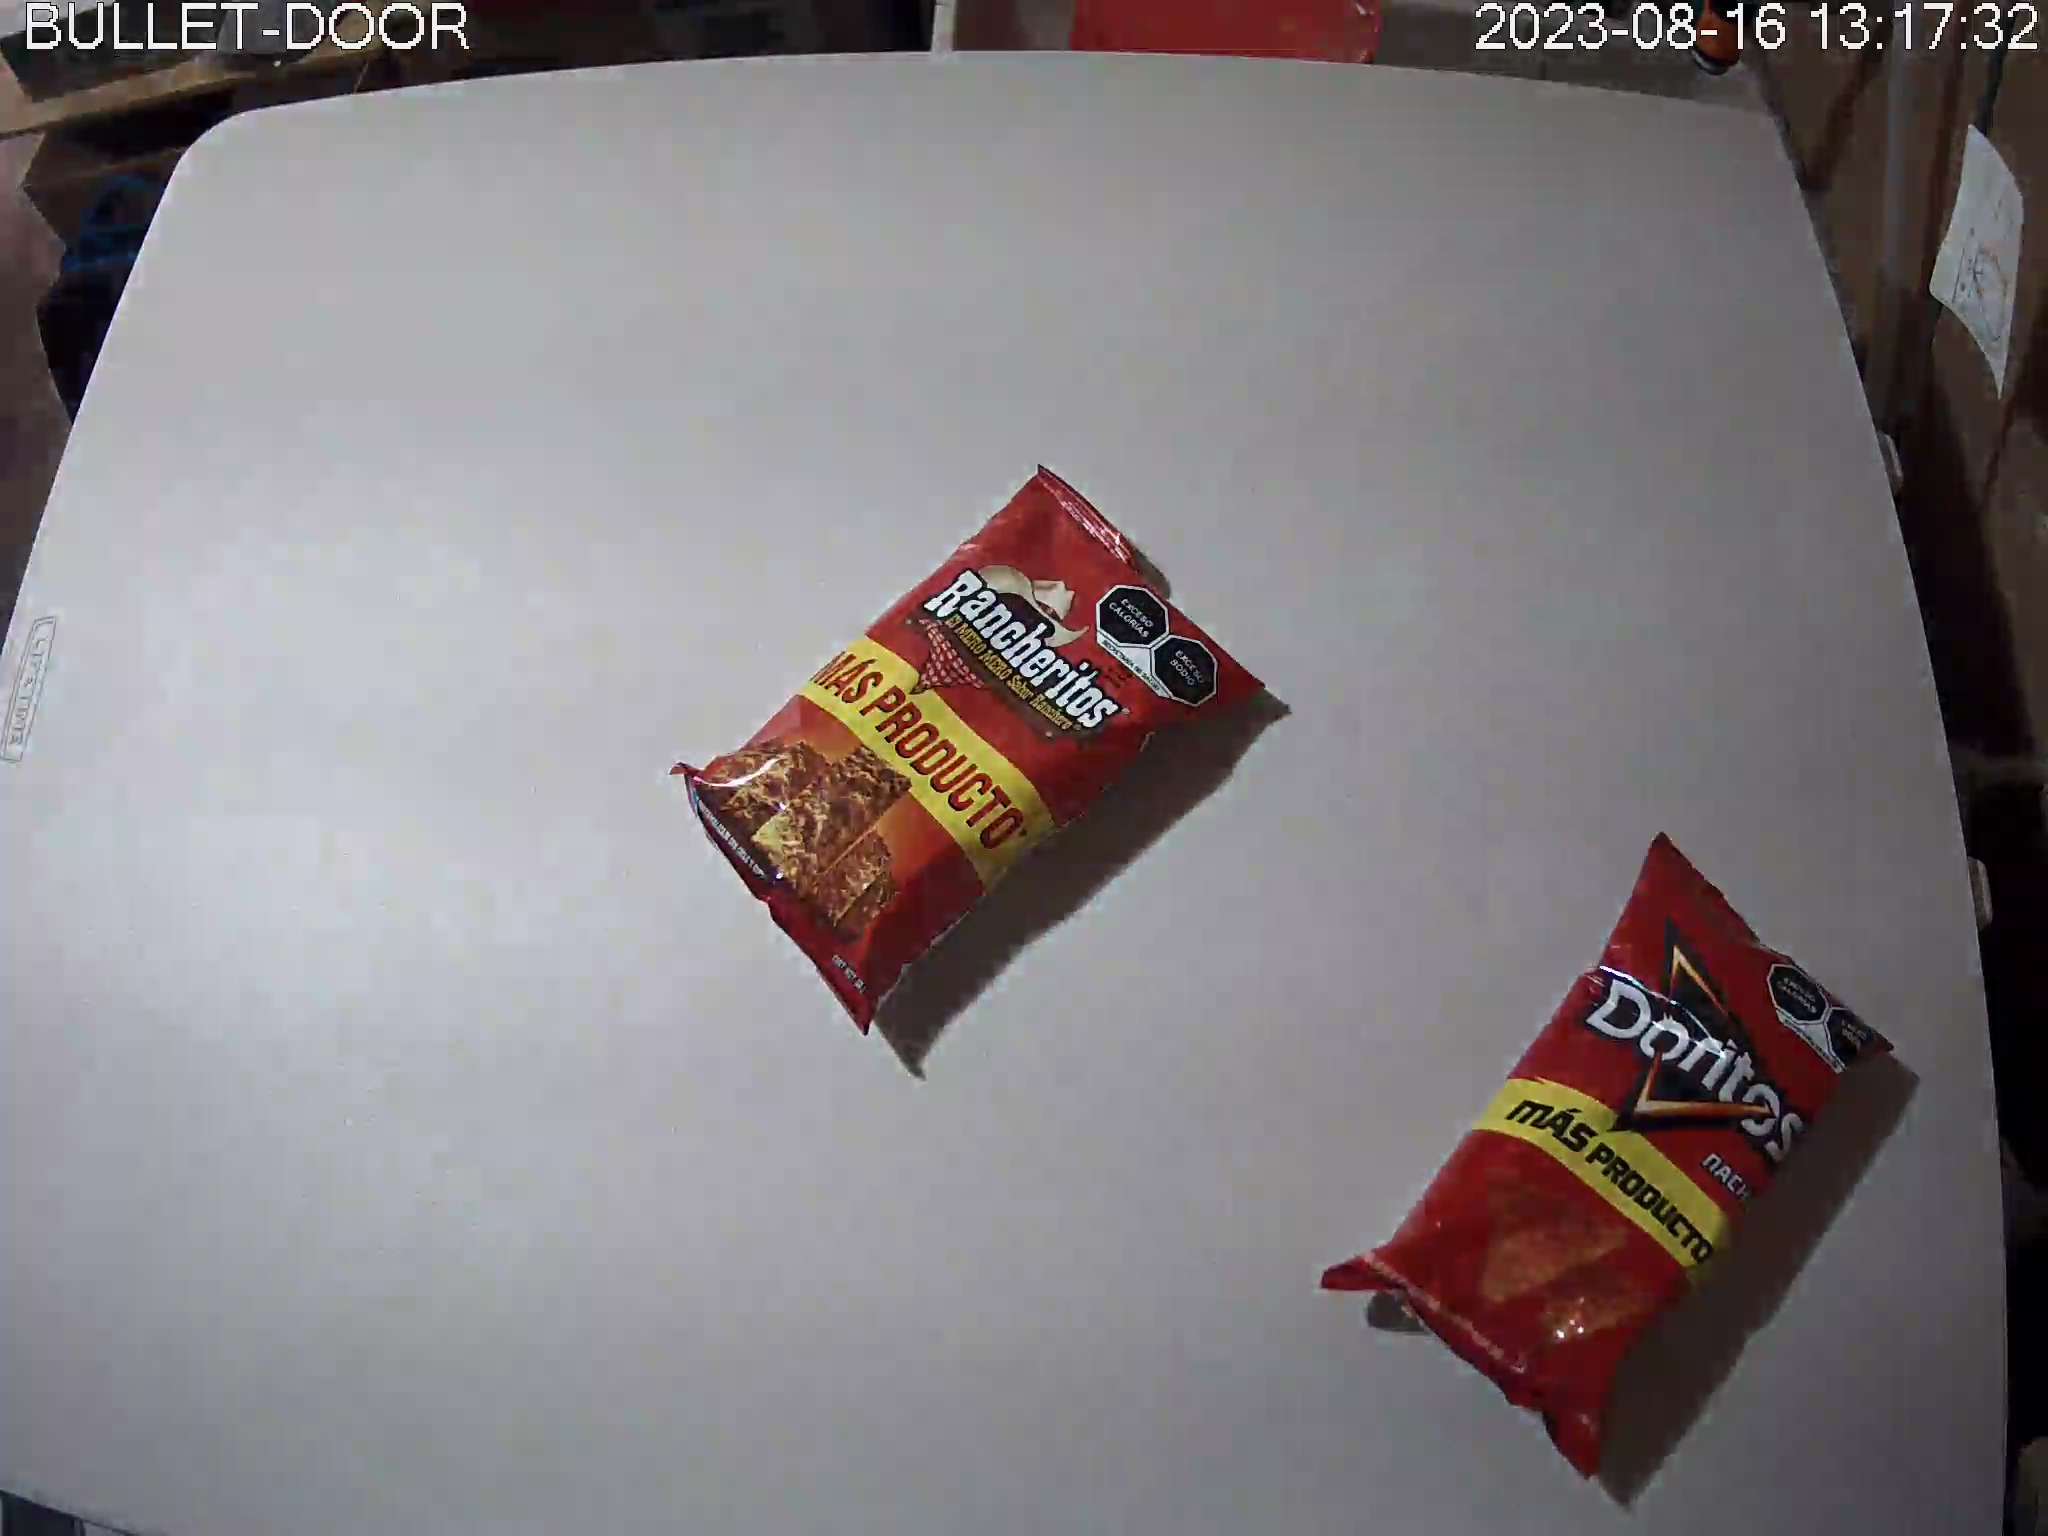DoritosN_61_F: (1326, 833, 1900, 1484)
Rancheritos_58_F: (664, 460, 1268, 1041)
